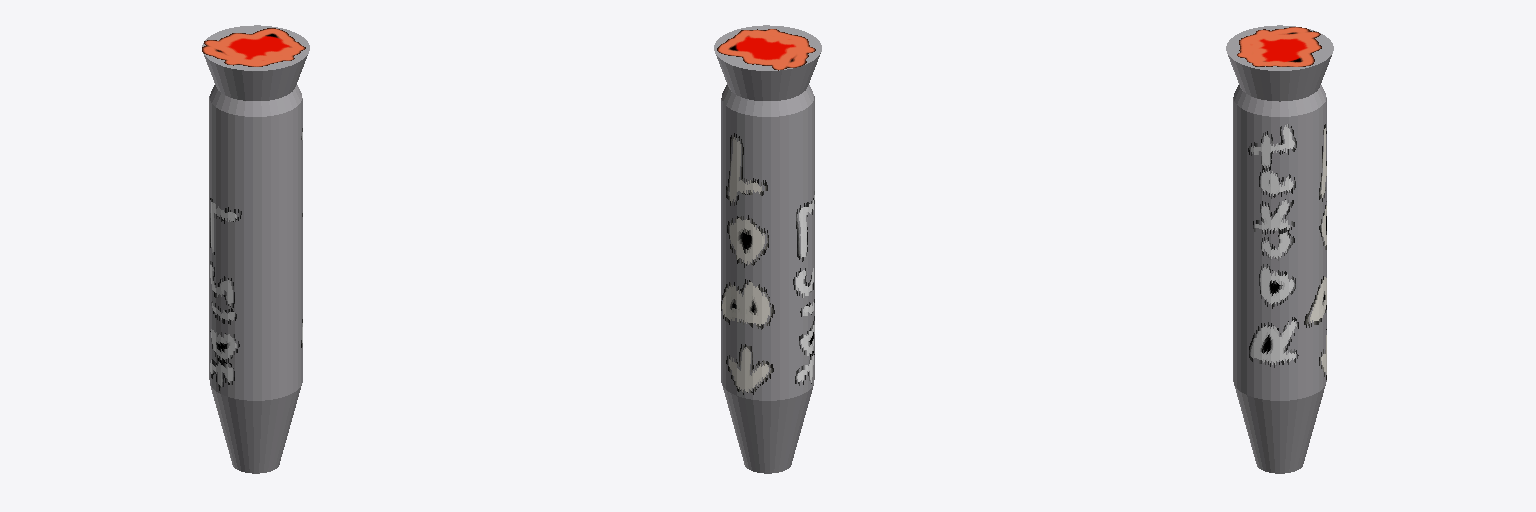
3 views of the same model, side by side, from view 1: azimuth 30°, elevation 25°; view 2: azimuth 150°, elevation 25°; view 3: azimuth 270°, elevation 25° (orthographic).
Visible parts, largest first — view 1: Cylinder; view 2: Cylinder; view 3: Cylinder.
Part boxes in pixels (bbox=[...]): Cylinder: bbox=[202, 25, 309, 473]; Cylinder: bbox=[714, 25, 821, 473]; Cylinder: bbox=[1226, 25, 1333, 473].
Bounding box in the file's own units: 1.16 × 4.92 × 1.16.
1 materials, 1 textured.